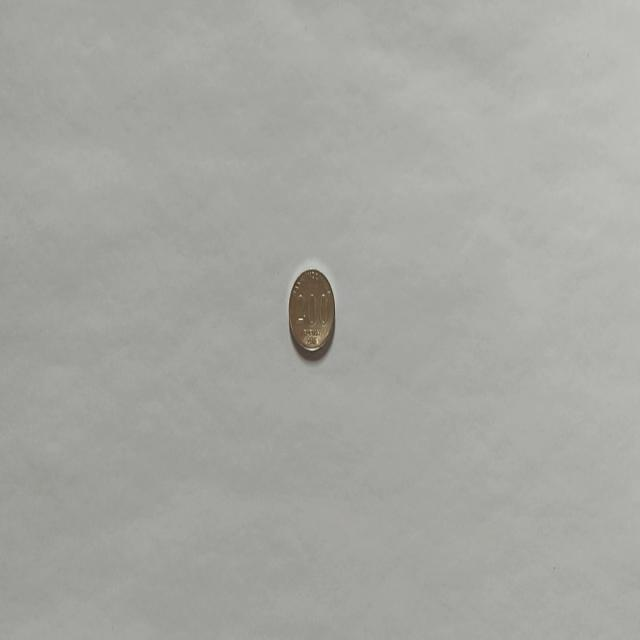dua ratus rupiah: (286, 266, 336, 354)
